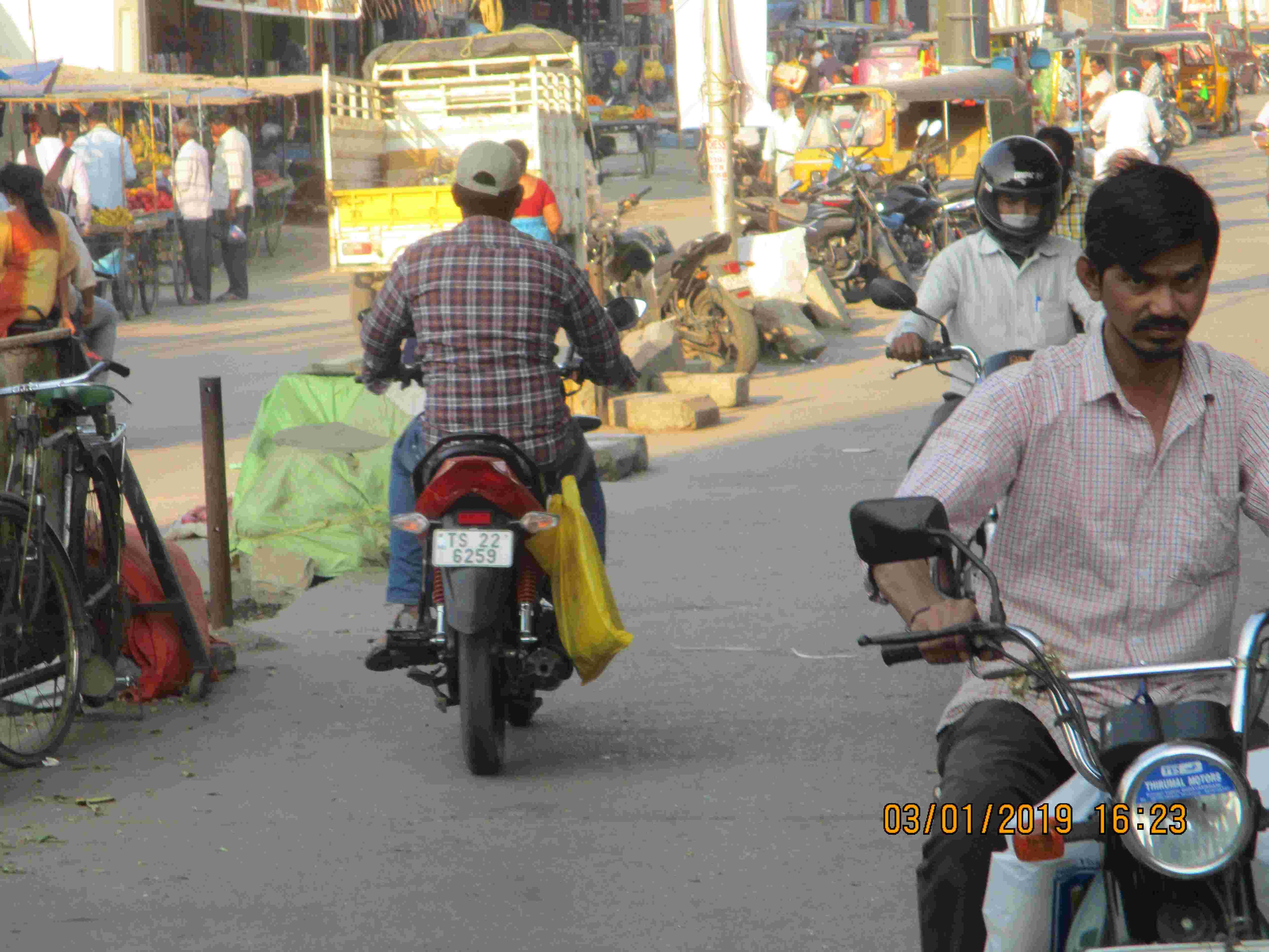plate: (423, 521, 524, 574)
